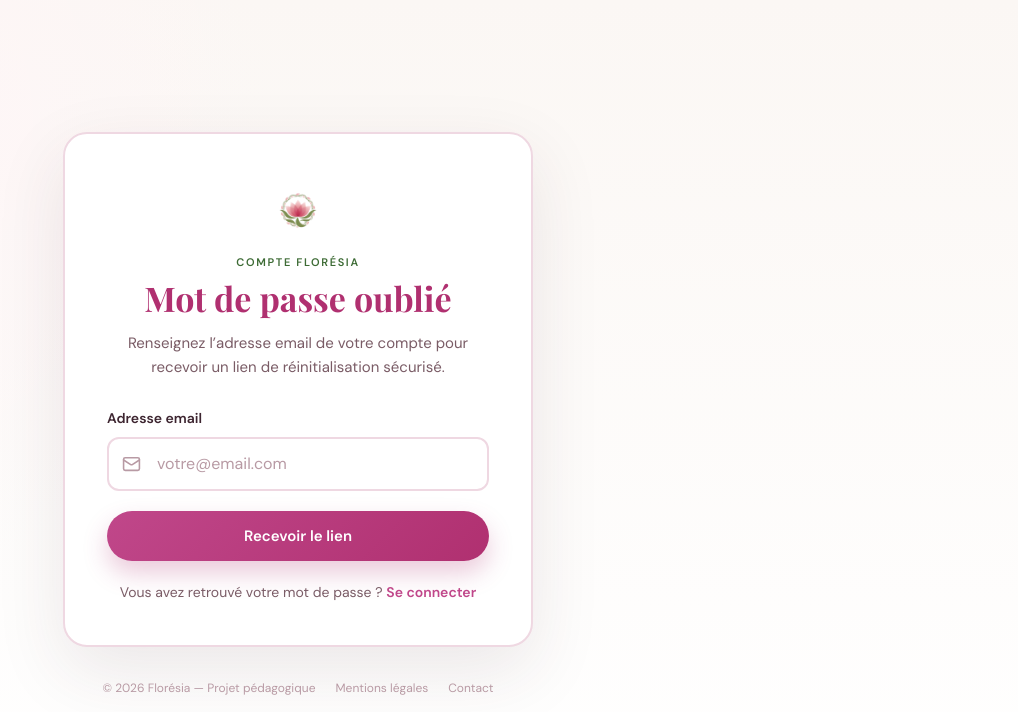
Test: Flora et récupération de compte › affiche une confirmation neutre après une demande de récupération
Type "flora@example.test" into the field with placeholder "votre@email.com".
click(298, 464); type("flora@example.test")  # box 107,437 -> 489,491
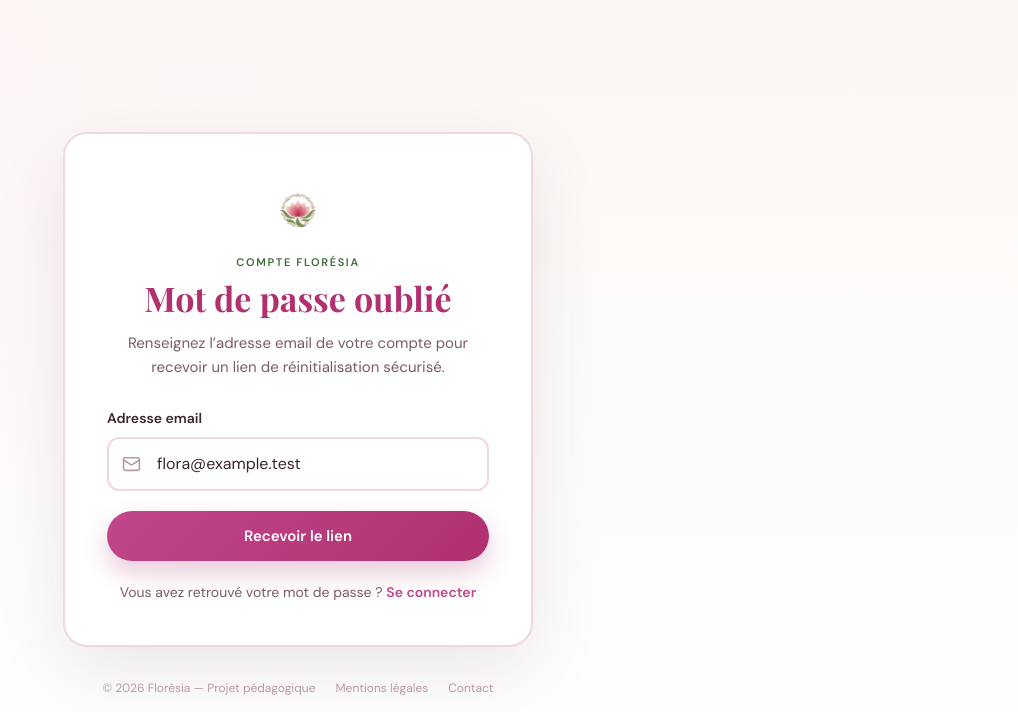
Click the button "Recevoir le lien".
click(298, 536)  # box 107,511 -> 489,561
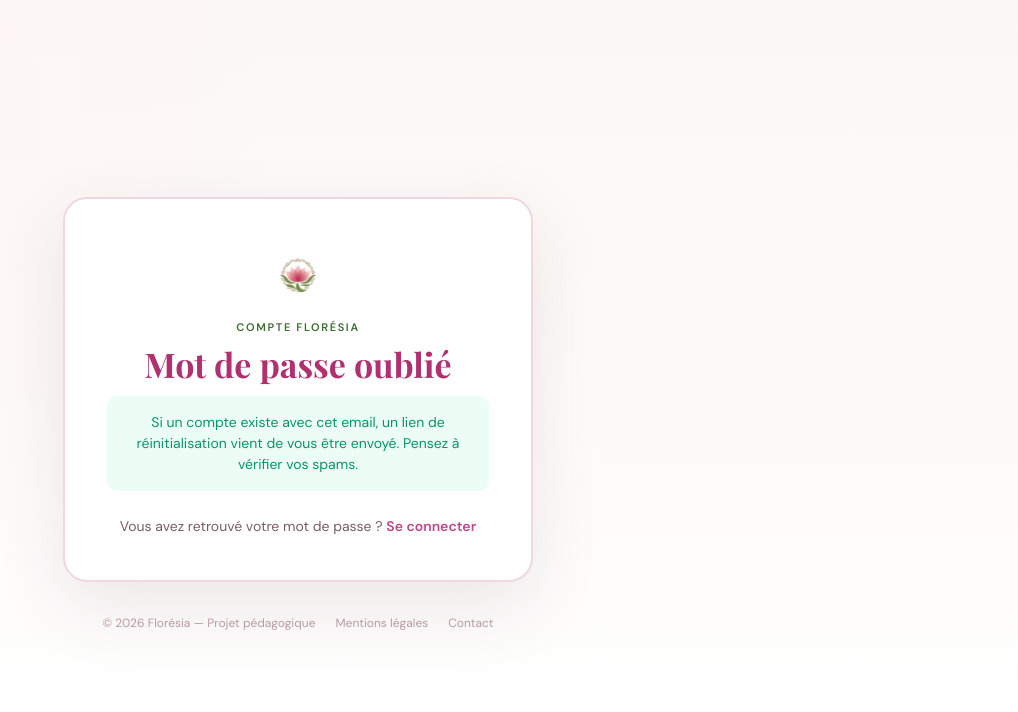
expect the text "Si un compte existe avec cet email" is shown: met, box 137,413 -> 459,473
